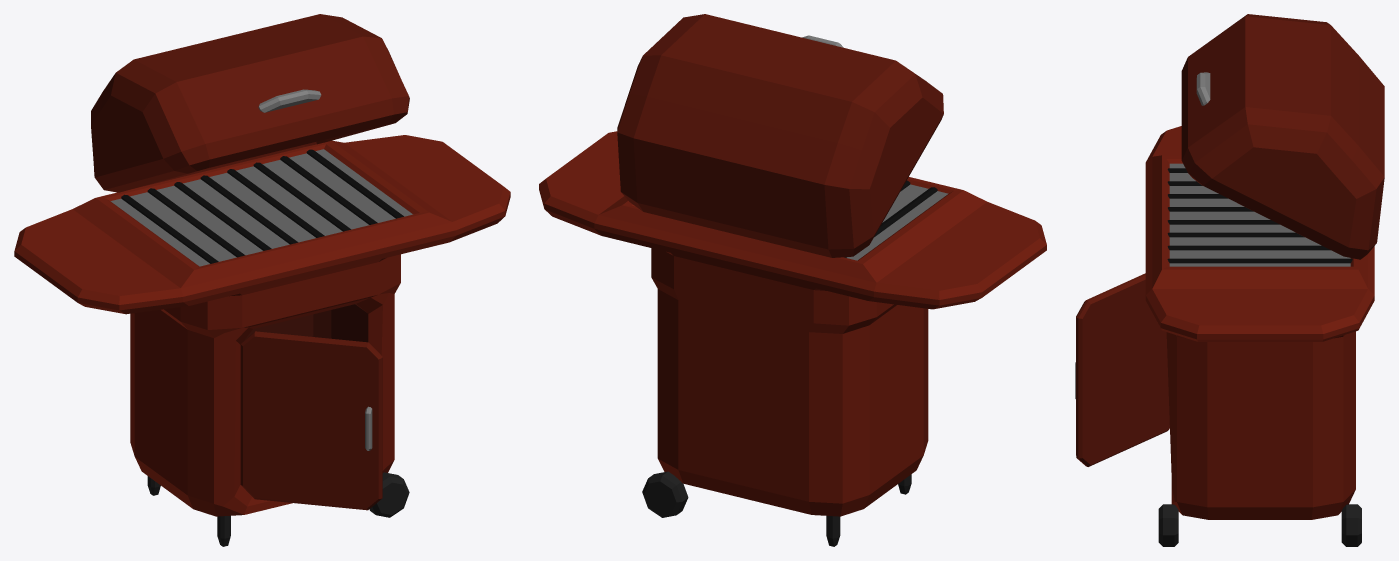
The model's file is Grill.fbx.
3 views of the same model, side by side, from view 1: azimuth 30°, elevation 25°; view 2: azimuth 150°, elevation 25°; view 3: azimuth 270°, elevation 25° (orthographic). The views are drawn at different scales.
Visible parts, largest first — view 1: grill body, grill lid, grill door; view 2: grill body, grill lid; view 3: grill body, grill lid, grill door.
Part boxes in pixels (x1,y1,x2,y2): grill body: [14, 135, 510, 546]; grill lid: [91, 14, 409, 192]; grill door: [240, 331, 382, 510]; grill body: [539, 131, 1046, 546]; grill lid: [617, 14, 943, 257]; grill body: [1145, 126, 1374, 546]; grill lid: [1181, 14, 1384, 259]; grill door: [1075, 273, 1169, 466].
Size of the model in its own units: 1.19 by 1.18 by 0.7404.
Materials: 1 (1 with a texture image).
